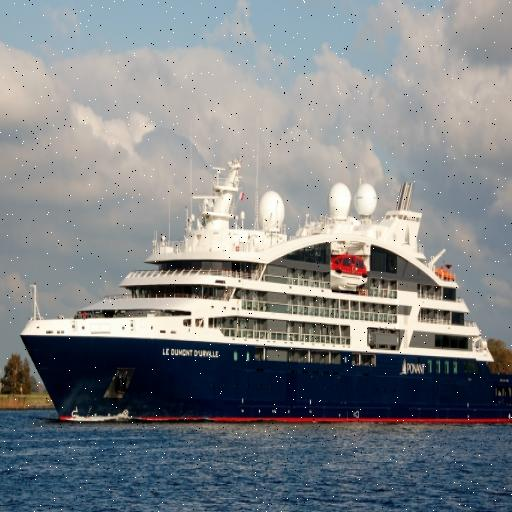cruises: (18, 151, 512, 435)
